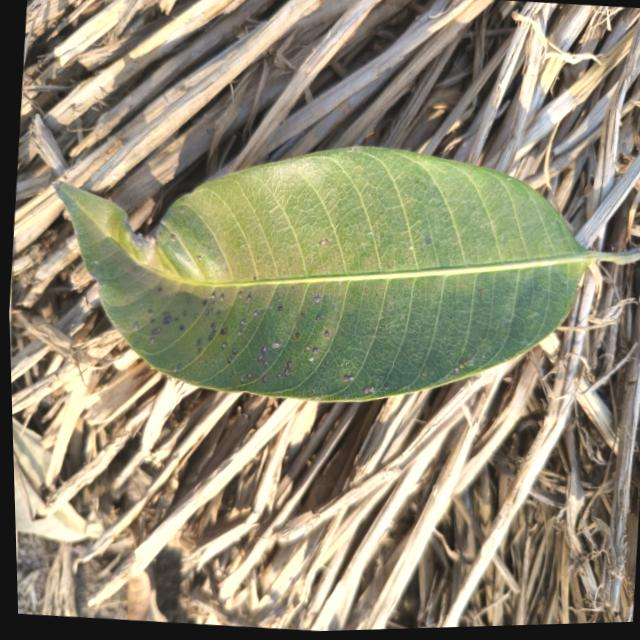black die: (206, 332, 216, 342), (163, 312, 171, 323), (341, 373, 350, 382), (312, 295, 321, 304), (318, 239, 328, 247), (452, 364, 460, 373), (239, 316, 245, 327), (282, 369, 290, 377), (284, 361, 292, 369), (219, 326, 227, 334), (275, 372, 282, 380), (196, 346, 203, 354), (362, 386, 369, 394), (152, 328, 161, 334), (156, 286, 163, 293), (251, 310, 258, 317), (347, 374, 354, 381), (240, 318, 246, 326), (324, 329, 330, 337), (315, 313, 321, 321), (294, 331, 300, 339), (219, 294, 225, 302), (262, 375, 267, 384), (272, 341, 278, 348), (221, 342, 227, 349), (246, 372, 252, 379), (369, 386, 375, 393), (232, 347, 238, 354), (202, 298, 208, 305), (175, 364, 182, 370), (246, 294, 251, 302), (179, 325, 185, 331), (149, 338, 155, 344), (193, 313, 199, 319), (150, 318, 156, 324), (312, 347, 317, 354), (170, 233, 175, 240), (133, 322, 138, 329), (262, 346, 266, 354), (210, 292, 214, 300), (257, 355, 262, 361), (196, 338, 201, 344), (277, 305, 281, 312), (239, 376, 243, 383), (383, 383, 387, 389), (147, 309, 151, 315), (237, 330, 241, 336), (227, 358, 231, 364), (204, 310, 208, 316), (197, 256, 201, 261), (210, 323, 214, 328), (264, 361, 268, 366), (305, 346, 309, 350)
